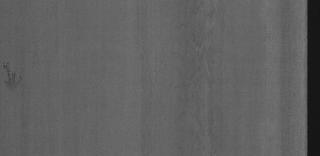silk spot: (162, 25, 230, 137)
water spot: (2, 59, 30, 95)
